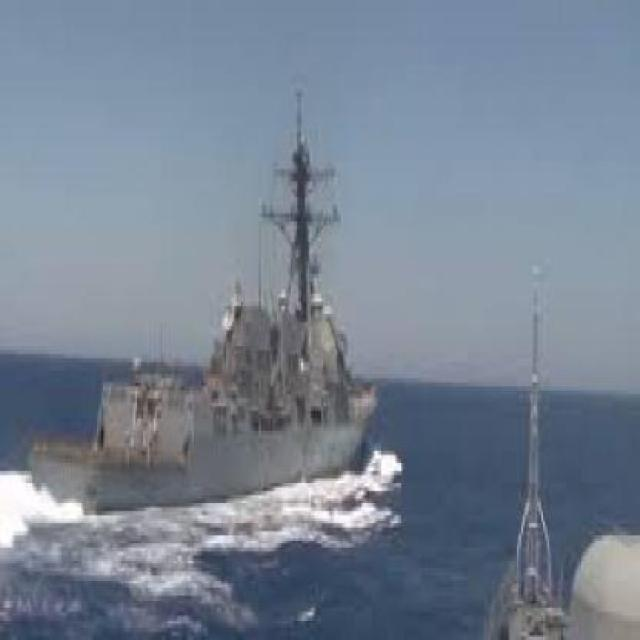warship2: (43, 73, 385, 549)
